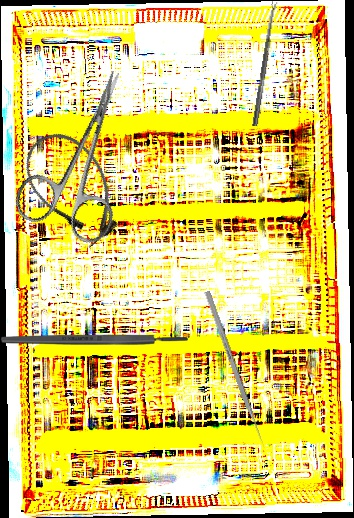Cannula: (11, 119, 135, 257)
Iris Scissors: (9, 53, 166, 251)
Pusher: (204, 290, 267, 450)
Scalpel Handle: (1, 334, 188, 345)
Surgical Spoon: (252, 1, 278, 127)
